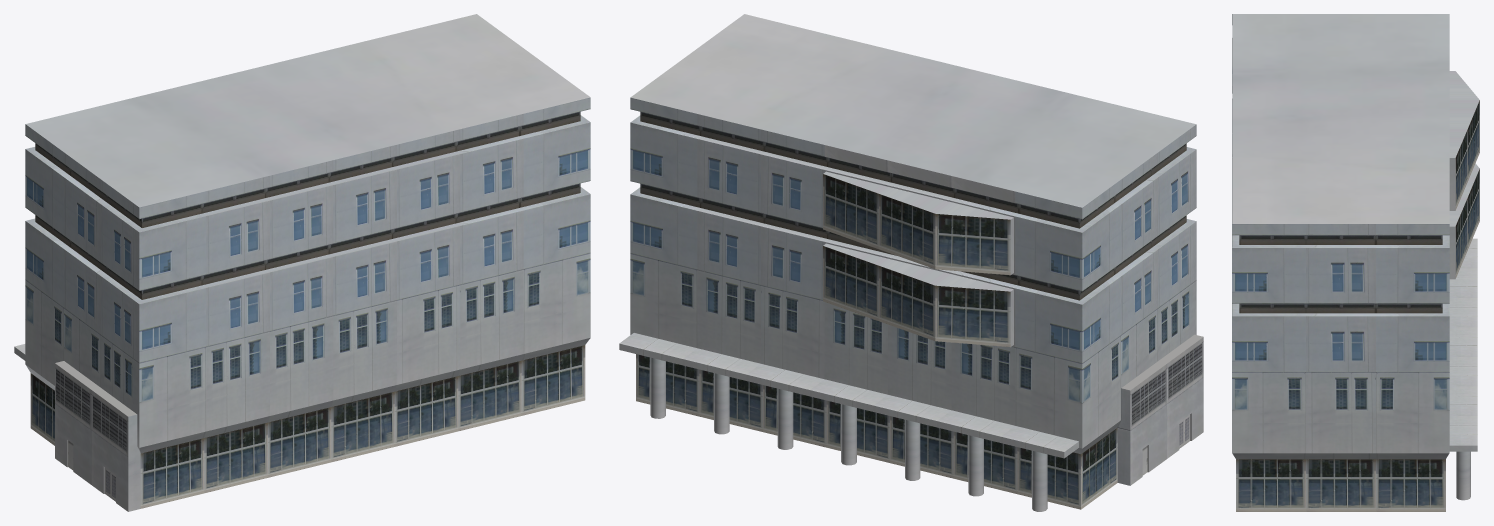
The model's file is Low-poly_Building.glb.
The picture shows the model from 3 angles, left to right: view 1: azimuth 30°, elevation 25°; view 2: azimuth 150°, elevation 25°; view 3: azimuth 270°, elevation 25°; orthographic projection. The views are drawn at different scales.
Visible parts, largest first — view 1: Building_01_RawBuilding_01_0; view 2: Building_01_RawBuilding_01_0; view 3: Building_01_RawBuilding_01_0.
Part boxes in pixels (box(x1,y1,x2,y2)): Building_01_RawBuilding_01_0: box(14, 14, 590, 511); Building_01_RawBuilding_01_0: box(619, 14, 1203, 511); Building_01_RawBuilding_01_0: box(1232, 14, 1479, 511).
Size of the model in its own units: 0.3627 by 0.2285 by 0.1771.
Materials: 1 (1 with a texture image).
